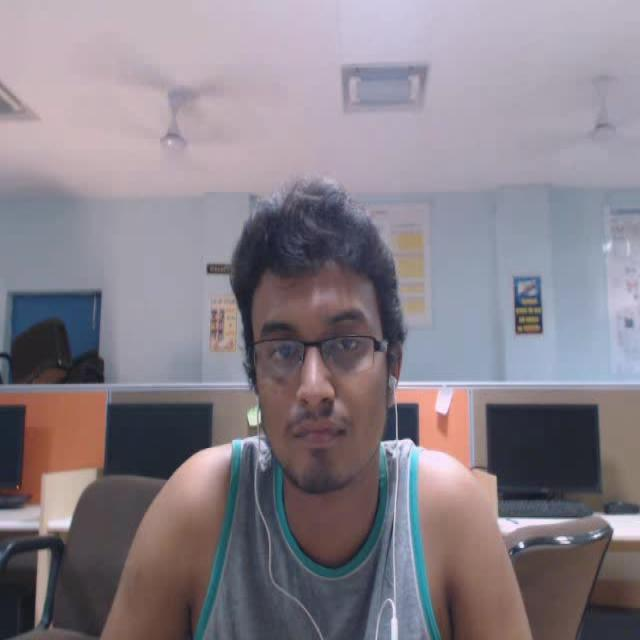Engaged: (225, 184, 429, 526)
